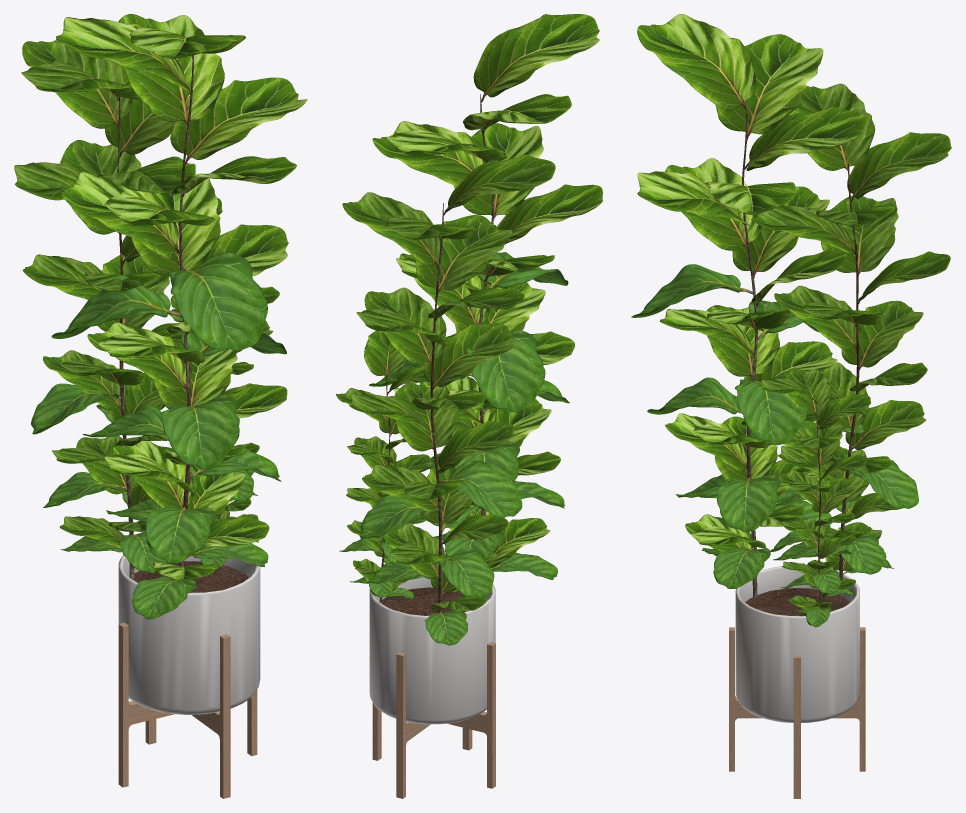
The model's file is plant.glb.
3 views of the same model, side by side, from view 1: azimuth 30°, elevation 25°; view 2: azimuth 150°, elevation 25°; view 3: azimuth 270°, elevation 25° (orthographic). The views are drawn at different scales.
Parts seen in each view (by area): view 1: normalized; view 2: normalized; view 3: normalized.
Part boxes in pixels (x1,y1,x2,y2): normalized: (14,14,307,798); normalized: (336,14,602,798); normalized: (631,14,951,798).
Bounding box in the file's own units: 0.4138 × 1.35 × 0.5554.
7 materials, 6 textured.
